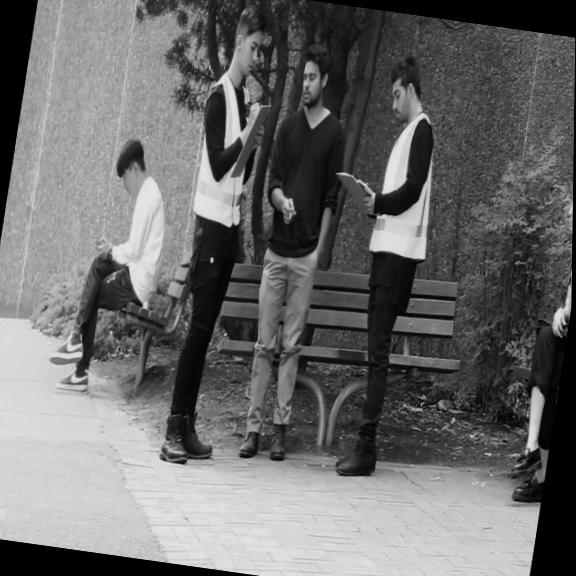safety_vest: (366, 103, 449, 267), (188, 64, 264, 230)
